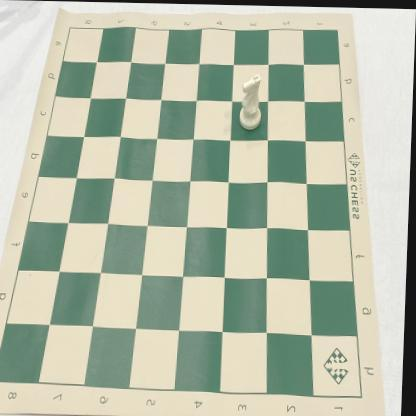white-knight: (239, 71, 264, 130)
